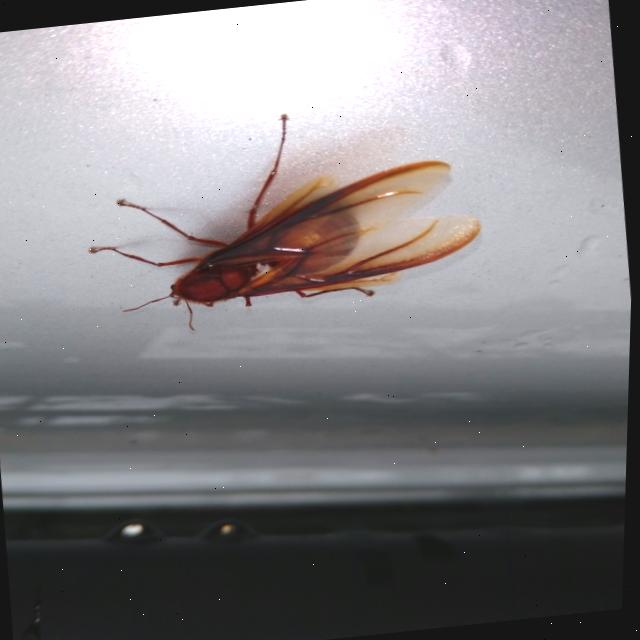Alive-Male-Alate: (74, 93, 494, 342)
